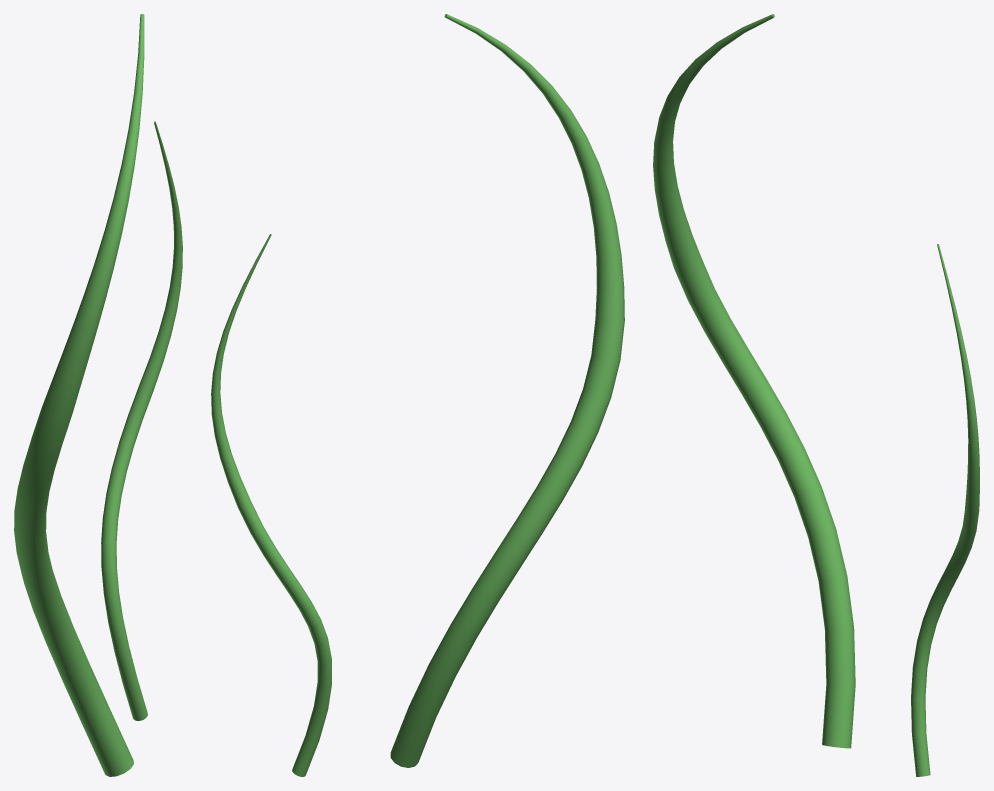
Rendered from grass3.fbx.
The picture shows the model from 3 angles, left to right: view 1: azimuth 30°, elevation 25°; view 2: azimuth 150°, elevation 25°; view 3: azimuth 270°, elevation 25°; orthographic projection. The views are drawn at different scales.
Visible parts, largest first — view 1: BézierCurve.008, BézierCurve.007; view 2: BézierCurve.008, BézierCurve.007; view 3: BézierCurve.008, BézierCurve.007.
Boxes of the visible parts, bbox=[...] form: BézierCurve.008: bbox=[14, 14, 144, 776]; BézierCurve.007: bbox=[101, 121, 182, 720]; BézierCurve.008: bbox=[390, 14, 624, 767]; BézierCurve.007: bbox=[211, 234, 331, 776]; BézierCurve.008: bbox=[653, 14, 855, 748]; BézierCurve.007: bbox=[911, 244, 979, 776].
Bounding box in the file's own units: 61.83 × 158 × 63.92.
